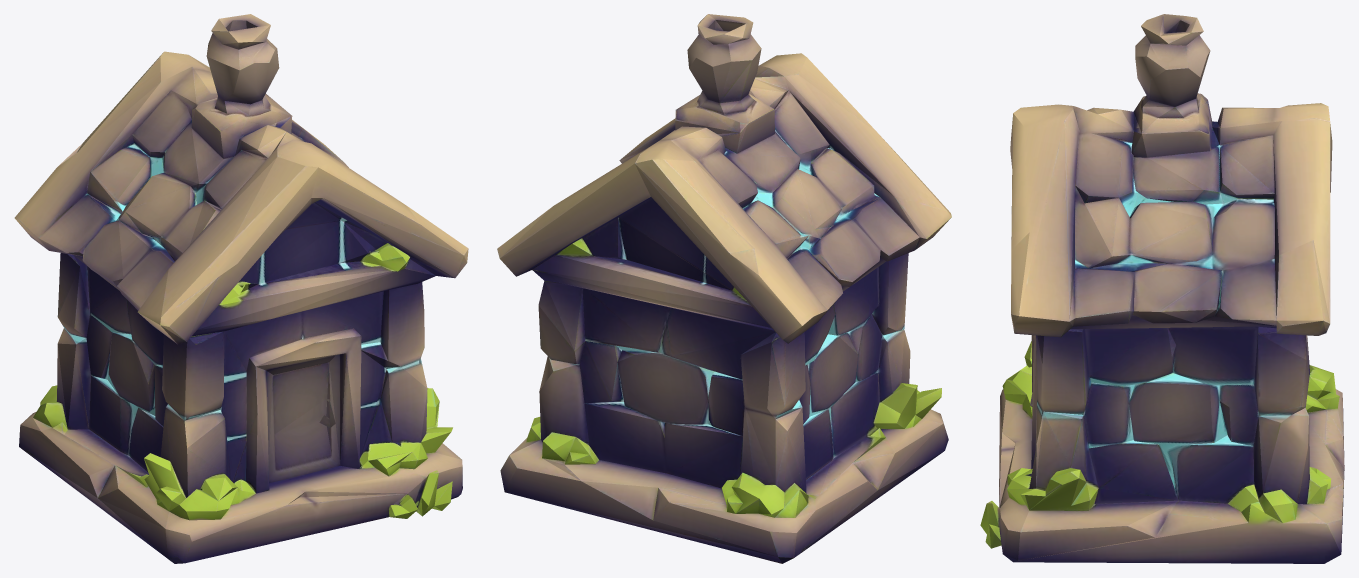
The model's file is tomb_small.glb.
The picture shows the model from 3 angles, left to right: view 1: azimuth 30°, elevation 25°; view 2: azimuth 150°, elevation 25°; view 3: azimuth 270°, elevation 25°; orthographic projection. The views are drawn at different scales.
Bounding box in the file's own units: 1.37 × 1.9 × 1.34.
Materials: 1 (1 with a texture image).
